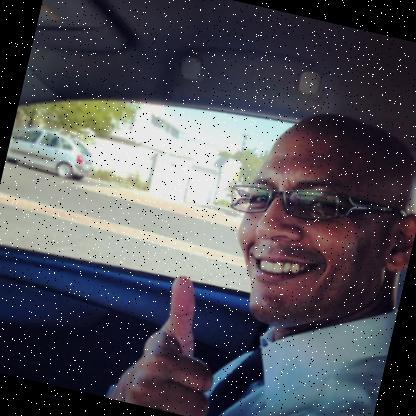Car: (0, 0, 415, 415), (6, 114, 102, 178)
